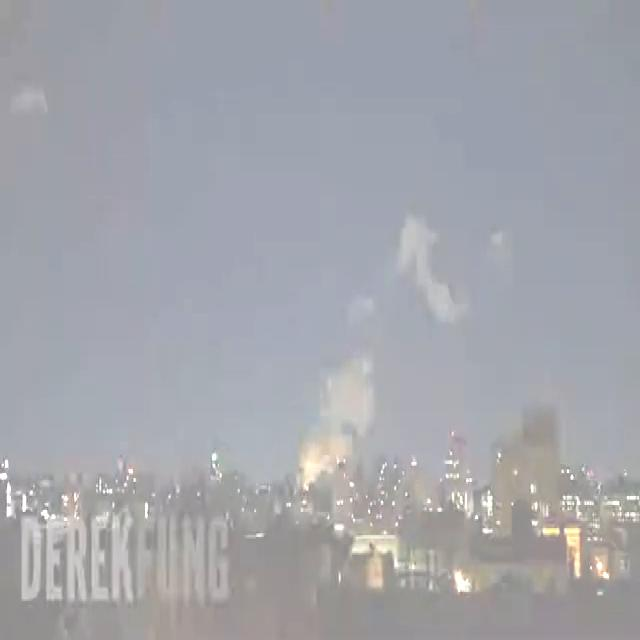smoke: (298, 356, 373, 484)
